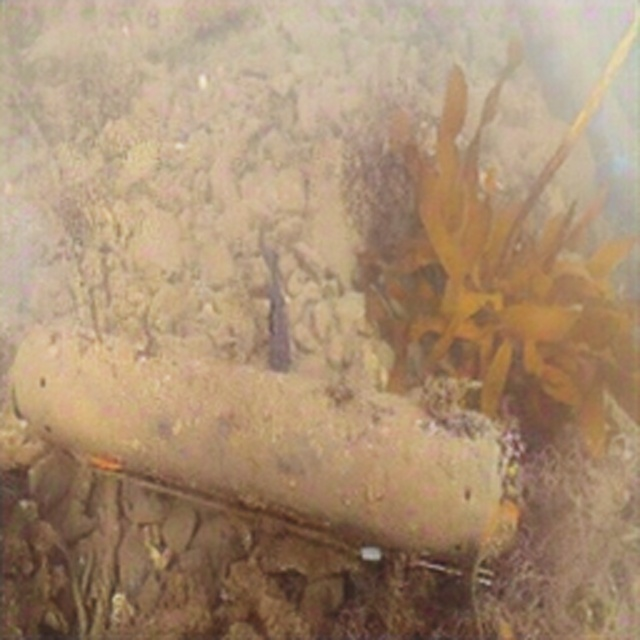mine: (8, 324, 521, 566)
